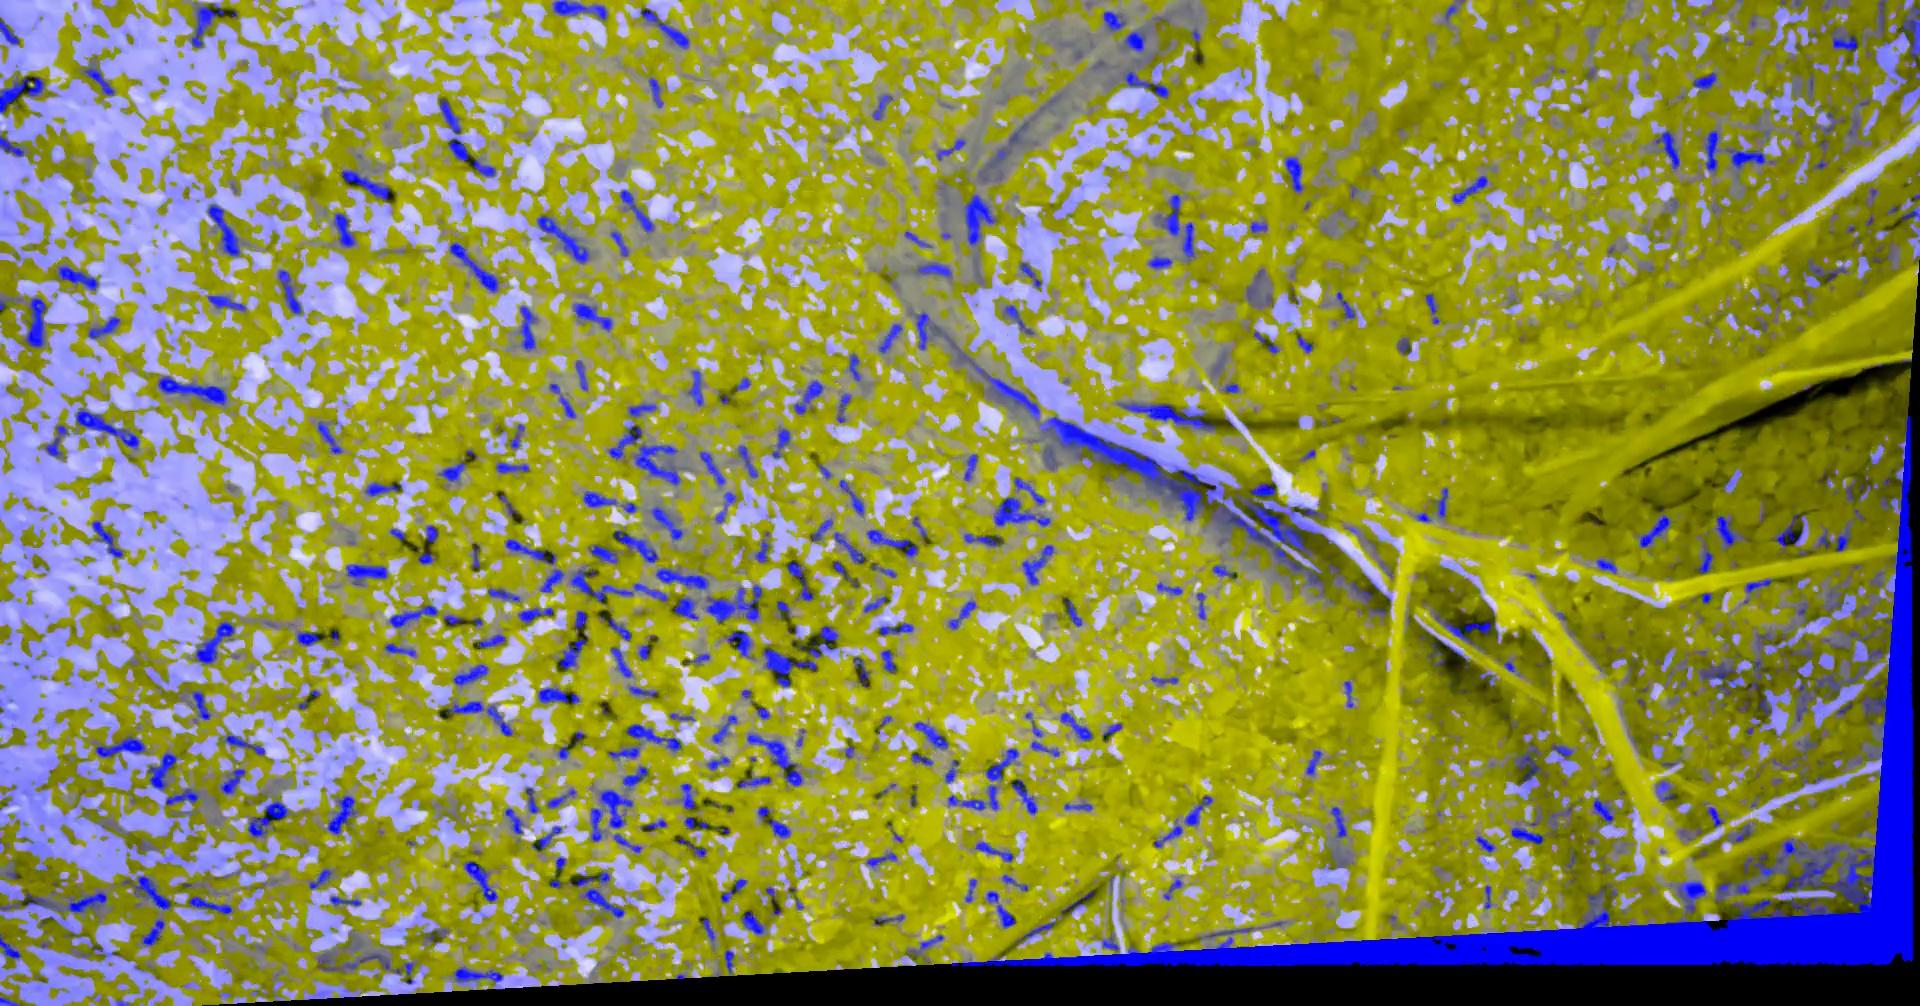ant: (968, 359, 1039, 417), (745, 733, 801, 785), (1119, 403, 1215, 431), (75, 408, 138, 448), (536, 215, 588, 262), (450, 243, 498, 292), (0, 890, 105, 912), (446, 701, 510, 735), (1434, 614, 1495, 649), (570, 569, 632, 603), (705, 586, 761, 622), (763, 648, 817, 686), (157, 375, 226, 404), (640, 8, 688, 47), (447, 138, 495, 177), (634, 445, 679, 484), (1815, 664, 1867, 699), (206, 203, 239, 257), (121, 875, 171, 909), (0, 75, 44, 113), (196, 621, 234, 664), (993, 497, 1049, 526), (964, 196, 996, 245), (1895, 4, 1919, 69), (190, 3, 223, 47), (626, 724, 681, 751), (612, 530, 658, 561), (248, 800, 288, 836), (618, 189, 653, 231), (1426, 635, 1469, 668), (866, 528, 917, 556), (340, 170, 389, 199), (1699, 662, 1741, 695), (1514, 743, 1547, 785), (463, 860, 497, 902), (599, 789, 632, 828), (1638, 507, 1670, 547), (947, 785, 998, 810), (505, 539, 555, 564), (583, 887, 623, 917), (1022, 545, 1053, 584), (1123, 71, 1167, 98), (655, 568, 709, 589), (91, 521, 122, 558), (147, 752, 177, 790), (389, 605, 437, 627), (328, 795, 356, 835), (608, 426, 641, 459), (985, 890, 1015, 927), (25, 297, 47, 347), (95, 735, 145, 757), (1771, 513, 1803, 546), (277, 269, 301, 312), (557, 633, 587, 668), (552, 0, 606, 19), (786, 561, 813, 600), (651, 506, 682, 539), (985, 748, 1018, 779), (1451, 175, 1487, 203), (574, 304, 611, 330), (833, 532, 865, 563), (757, 807, 789, 837), (792, 380, 822, 413), (1655, 130, 1679, 169), (57, 265, 97, 290), (916, 312, 941, 349), (83, 66, 114, 95), (1747, 658, 1771, 696), (1011, 779, 1036, 814), (1807, 260, 1846, 283), (808, 625, 837, 655), (1060, 713, 1092, 741), (1677, 882, 1705, 913), (914, 721, 947, 748), (1726, 149, 1771, 168), (839, 479, 863, 514), (345, 564, 387, 584), (1183, 795, 1211, 826), (698, 451, 724, 484), (1015, 921, 1055, 941), (188, 895, 231, 915), (1004, 305, 1032, 334), (1013, 478, 1044, 504), (599, 615, 631, 640), (317, 420, 342, 453), (44, 424, 69, 457), (909, 934, 943, 956), (455, 967, 502, 983), (1161, 194, 1180, 235), (223, 735, 264, 754), (531, 826, 561, 851), (975, 841, 1013, 861), (1716, 878, 1749, 901), (1060, 889, 1093, 912), (439, 97, 460, 133), (949, 600, 975, 627), (344, 953, 389, 969), (333, 213, 354, 246), (1716, 514, 1737, 547), (832, 560, 858, 587), (877, 324, 902, 353), (610, 647, 632, 677), (453, 664, 488, 685), (88, 316, 119, 338), (712, 715, 737, 743), (737, 445, 757, 478), (569, 870, 610, 887), (519, 306, 535, 349), (1796, 682, 1812, 721), (728, 630, 752, 657), (1153, 826, 1182, 847), (720, 878, 745, 902), (1284, 156, 1302, 191), (1018, 262, 1041, 288), (141, 918, 164, 945), (538, 687, 578, 702), (936, 138, 965, 159), (220, 768, 244, 793), (207, 295, 245, 310), (622, 765, 648, 788), (632, 583, 667, 600), (165, 788, 199, 804), (538, 569, 563, 592), (1350, 580, 1373, 605), (740, 909, 763, 934), (1831, 29, 1857, 51), (737, 771, 770, 788), (687, 370, 702, 405), (772, 428, 790, 459), (438, 461, 465, 481), (1592, 798, 1613, 824), (0, 17, 19, 44), (1705, 130, 1718, 171), (613, 833, 641, 852), (852, 655, 869, 687), (1511, 827, 1543, 843), (0, 133, 23, 156), (518, 607, 552, 622), (673, 597, 697, 619), (0, 934, 22, 958), (192, 690, 210, 719), (546, 789, 575, 807), (676, 838, 705, 856), (963, 533, 1003, 546), (364, 481, 401, 495), (1336, 291, 1355, 318), (588, 544, 616, 561), (1063, 598, 1081, 626), (610, 231, 629, 257), (811, 518, 832, 541), (1331, 807, 1346, 837), (309, 868, 331, 888), (583, 492, 616, 506), (1691, 72, 1716, 91), (872, 95, 891, 119), (498, 494, 517, 518), (504, 808, 522, 833), (917, 263, 951, 276), (877, 622, 912, 635), (1031, 741, 1059, 756), (1697, 547, 1713, 573), (1002, 874, 1027, 890), (1125, 30, 1145, 51), (648, 77, 662, 107), (1425, 293, 1439, 323), (836, 392, 850, 422), (476, 634, 505, 648), (866, 852, 895, 866), (1835, 525, 1850, 551), (488, 588, 519, 601), (383, 643, 415, 655), (1103, 11, 1124, 30), (1182, 222, 1192, 260), (904, 231, 930, 246), (1435, 486, 1448, 517), (607, 747, 637, 760), (1305, 749, 1321, 775), (317, 951, 338, 970), (1010, 122, 1027, 144), (1288, 506, 1321, 517), (1789, 649, 1812, 666), (1728, 824, 1751, 841), (629, 403, 655, 417), (963, 453, 977, 480), (1745, 579, 1771, 593), (681, 782, 695, 809), (863, 596, 888, 611), (989, 149, 1010, 166), (1163, 879, 1181, 899), (559, 395, 575, 417), (510, 423, 524, 448), (524, 788, 538, 813), (943, 760, 959, 782), (1848, 629, 1874, 641), (1102, 723, 1121, 741), (1656, 781, 1674, 800), (871, 563, 895, 577), (424, 929, 448, 942), (495, 462, 528, 473), (1705, 807, 1722, 827), (590, 808, 601, 841), (575, 359, 587, 389), (1156, 582, 1181, 594), (1845, 478, 1859, 500), (296, 631, 319, 645), (881, 649, 895, 672), (1757, 694, 1771, 716), (1476, 836, 1495, 852), (1596, 558, 1617, 573), (1211, 565, 1236, 578), (848, 353, 860, 380), (874, 915, 903, 925), (1829, 594, 1848, 610), (684, 815, 707, 828), (640, 819, 665, 831), (756, 541, 770, 561), (629, 686, 657, 696), (329, 895, 361, 904), (702, 917, 714, 941), (1044, 447, 1057, 469), (1550, 743, 1572, 756), (707, 756, 729, 768), (1798, 741, 1817, 754), (1148, 257, 1171, 268), (965, 878, 977, 901), (1297, 335, 1312, 352), (1867, 648, 1883, 663), (1756, 633, 1774, 647), (1343, 680, 1352, 708), (776, 600, 789, 619), (574, 610, 587, 629), (724, 949, 733, 974), (910, 753, 932, 763), (1150, 676, 1178, 683), (1878, 0, 1884, 33), (425, 525, 437, 542), (1196, 592, 1204, 619), (1064, 803, 1091, 810), (1900, 208, 1919, 218), (1398, 338, 1411, 353), (1818, 528, 1829, 547), (443, 615, 462, 625), (471, 544, 479, 568), (0, 996, 20, 1005), (389, 528, 404, 540), (417, 553, 432, 564), (1250, 222, 1266, 232), (756, 706, 770, 718), (1223, 382, 1238, 392), (637, 644, 648, 659), (557, 743, 568, 758), (1484, 885, 1491, 908)
